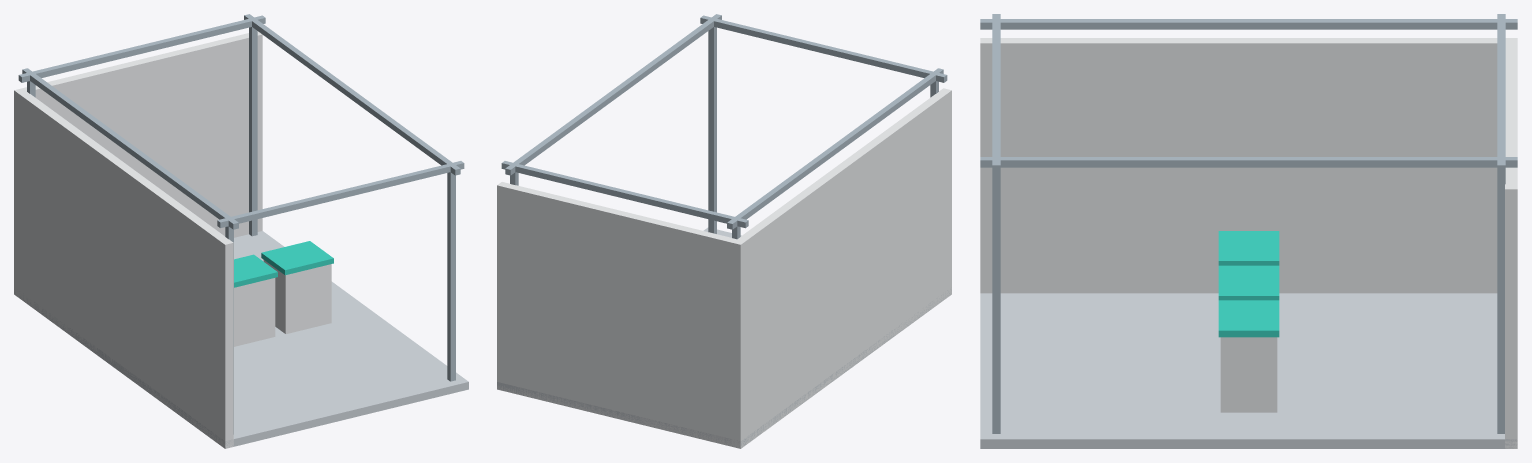
3 views of the same model, side by side, from view 1: azimuth 30°, elevation 25°; view 2: azimuth 150°, elevation 25°; view 3: azimuth 270°, elevation 25° (orthographic). The views are drawn at different scales.
Visible parts, largest first — view 1: Exhibition Booth Concept; view 2: Exhibition Booth Concept; view 3: Exhibition Booth Concept.
Part boxes in pixels (bbox=[...]): Exhibition Booth Concept: bbox=[14, 14, 468, 448]; Exhibition Booth Concept: bbox=[497, 14, 951, 448]; Exhibition Booth Concept: bbox=[980, 14, 1517, 448].
Bounding box in the file's own units: 4 × 3.49 × 6.
